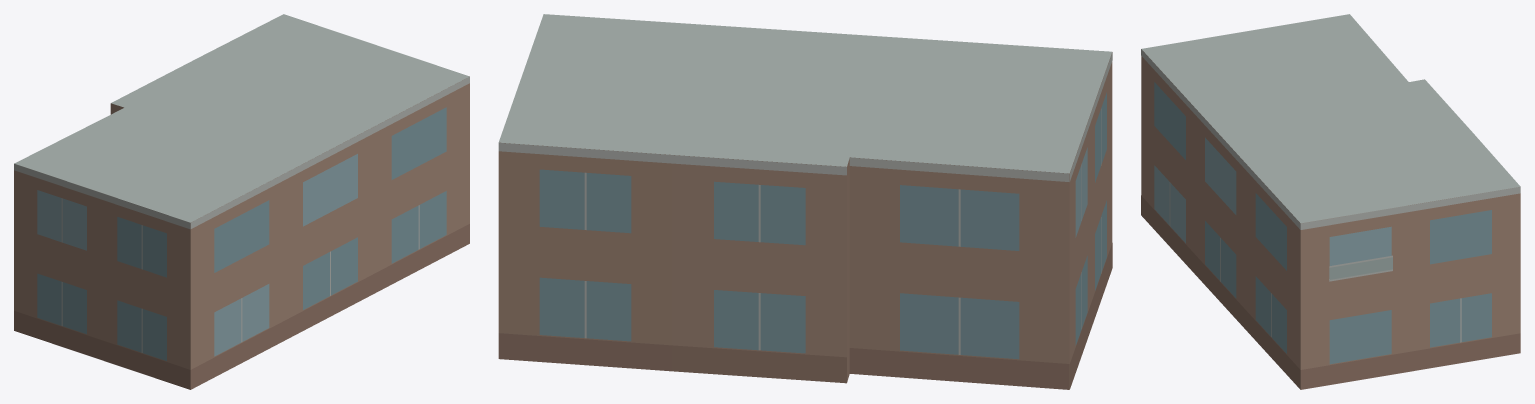
Rendered from survey-upis-32687598.glb.
3 views of the same model, side by side, from view 1: azimuth 30°, elevation 25°; view 2: azimuth 150°, elevation 25°; view 3: azimuth 270°, elevation 25° (orthographic). The views are drawn at different scales.
Parts seen in each view (by area): view 1: survey-upis-32687598.tmp; view 2: survey-upis-32687598.tmp; view 3: survey-upis-32687598.tmp.
Boxes of the visible parts, x1,y1,x2,y2 form: survey-upis-32687598.tmp: [14, 14, 469, 389]; survey-upis-32687598.tmp: [498, 14, 1112, 389]; survey-upis-32687598.tmp: [1141, 14, 1520, 389].
Bounding box in the file's own units: 16.47 × 6.1 × 12.62.
